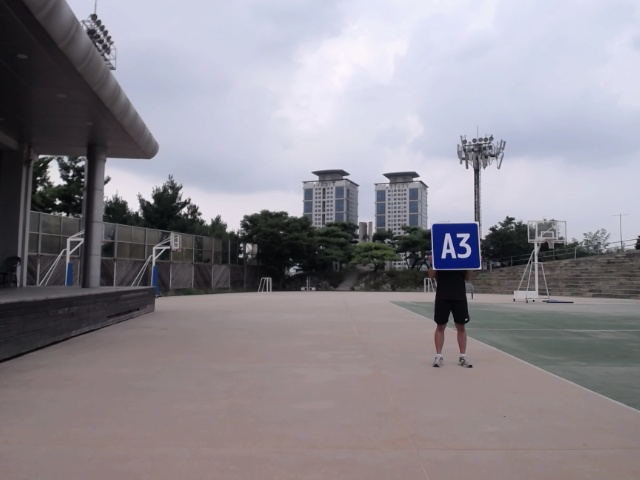delivery_a3: (431, 222, 482, 270)
